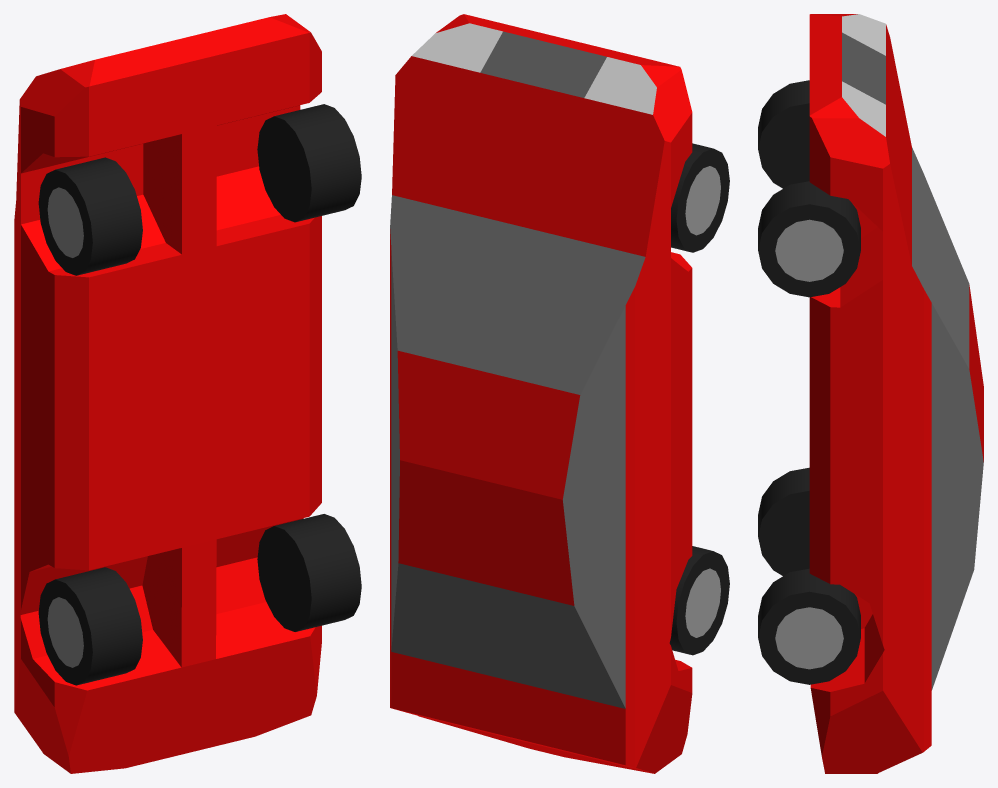
Rendered from car.dae.
3 views of the same model, side by side, from view 1: azimuth 30°, elevation 25°; view 2: azimuth 150°, elevation 25°; view 3: azimuth 270°, elevation 25° (orthographic). The views are drawn at different scales.
Parts seen in each view (by area): view 1: Car, cylinder (×6); view 2: Car (×6), cylinder (×4); view 3: Car (×6), cylinder (×6).
Boxes of the visible parts, box(x1,y1,x2,y2) form: Car: box(14, 14, 321, 773); cylinder (×6): box(38, 104, 361, 685); Car (×6): box(390, 14, 692, 773); cylinder (×4): box(669, 143, 729, 655); Car (×6): box(809, 14, 983, 773); cylinder (×6): box(758, 80, 860, 684).
Bounding box in the file's own units: 70.78 × 52.39 × 173.
